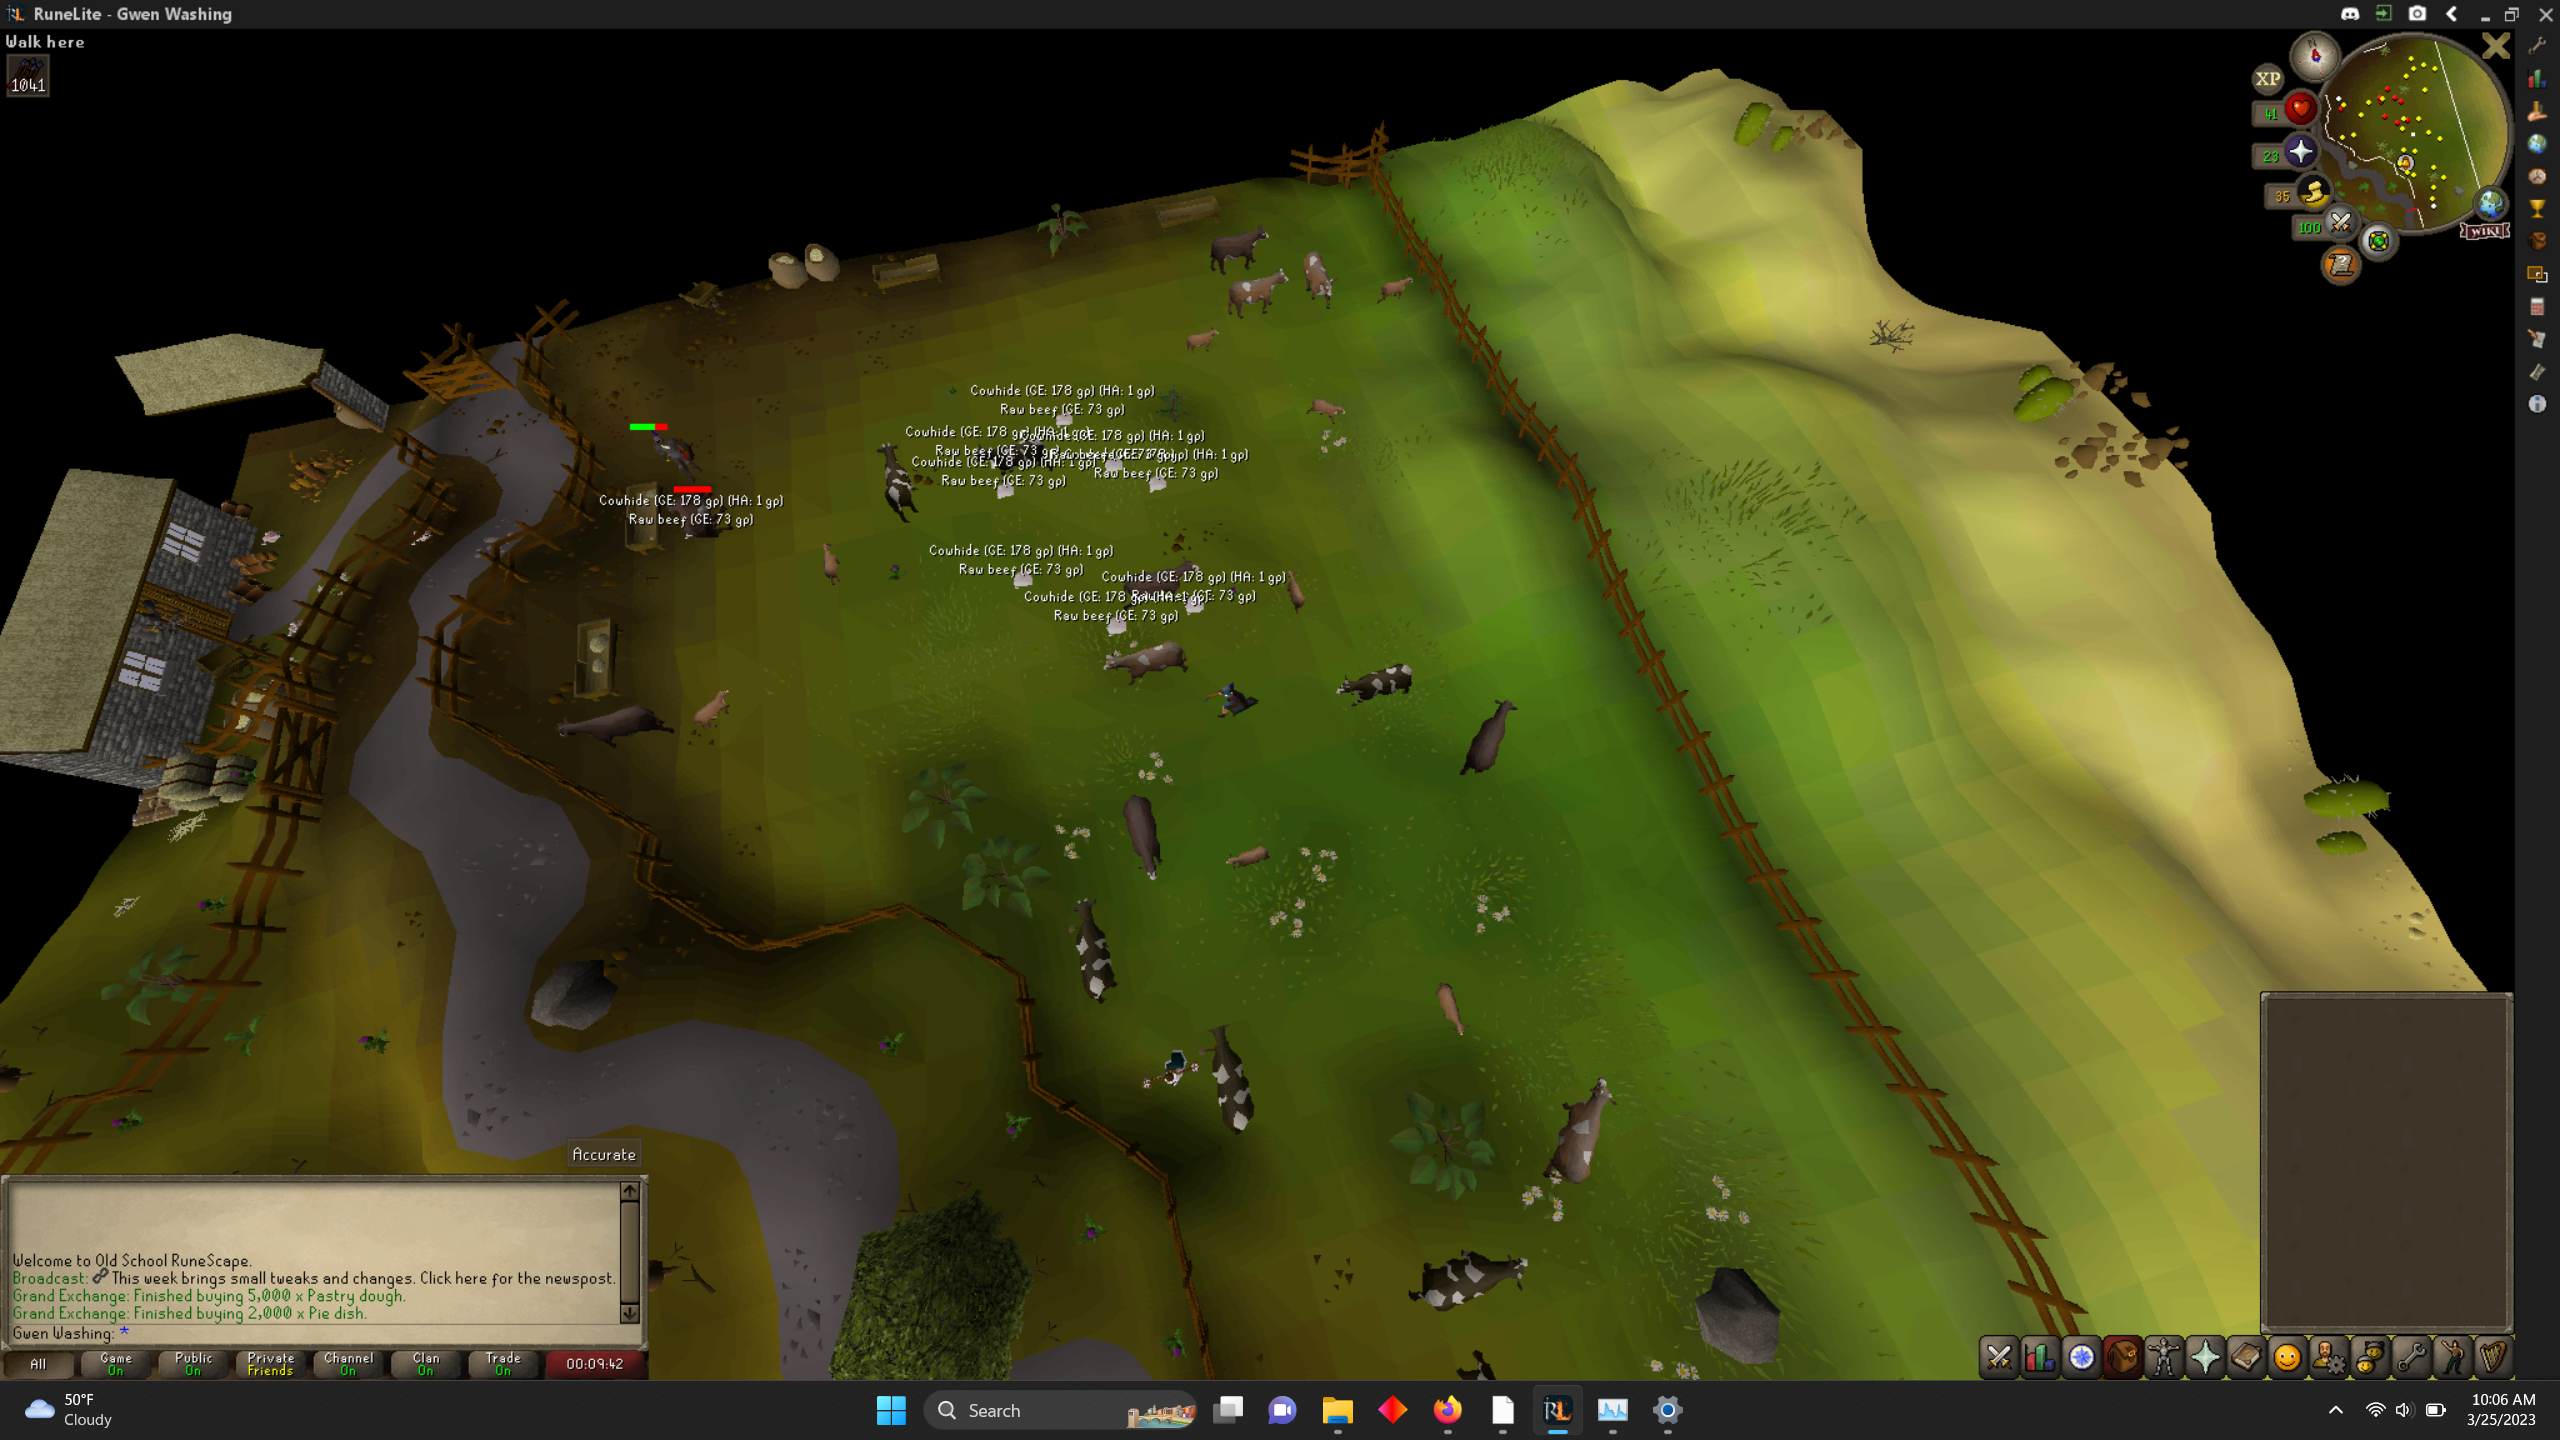cow: (1537, 1074, 1626, 1189), (1396, 1245, 1537, 1315), (1197, 1018, 1262, 1148), (554, 696, 675, 758), (1064, 890, 1122, 1009), (1116, 554, 1206, 624), (1459, 693, 1526, 779), (1097, 636, 1194, 695), (870, 440, 927, 529), (1335, 658, 1417, 717), (1118, 793, 1167, 888), (971, 431, 1060, 482), (1220, 265, 1298, 324), (1206, 222, 1278, 273), (1296, 246, 1342, 316), (1431, 979, 1475, 1041), (689, 686, 745, 728), (1224, 840, 1273, 879), (812, 535, 849, 584), (1301, 396, 1350, 425), (1275, 568, 1308, 612), (1182, 324, 1224, 357), (1377, 273, 1417, 304)
